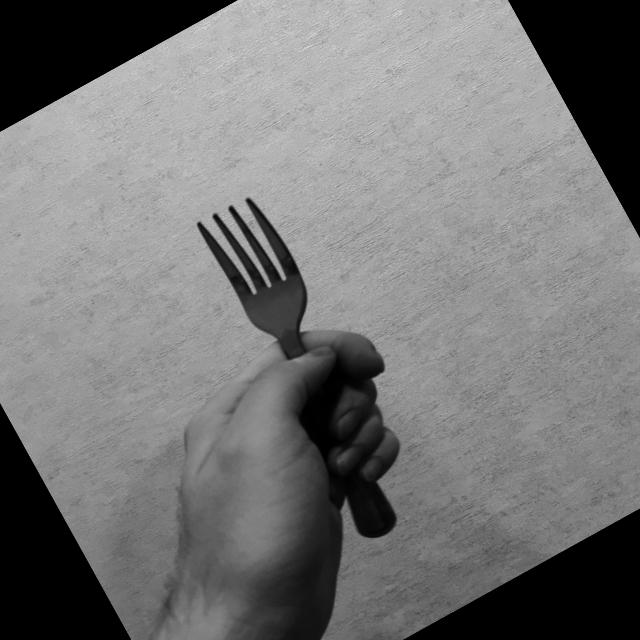fork: (188, 187, 434, 548)
